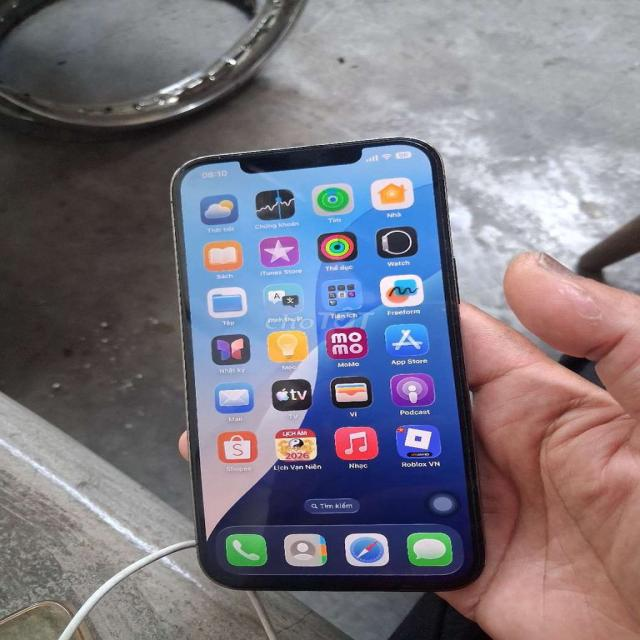gen_12_13: (167, 138, 492, 596)
